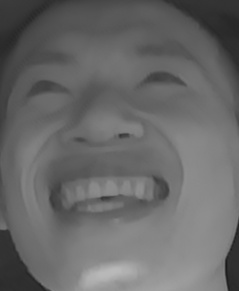eye: (125, 62, 187, 98), (18, 72, 69, 102)
mouth: (40, 162, 178, 218)
